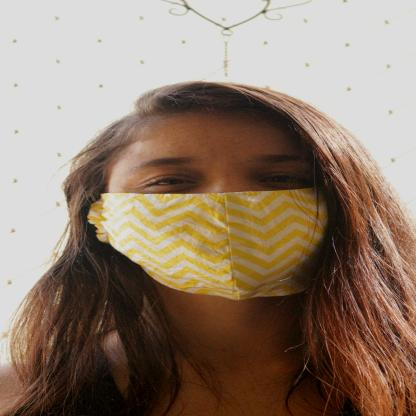dress: (78, 188, 342, 302)
jean: (8, 78, 416, 416)
